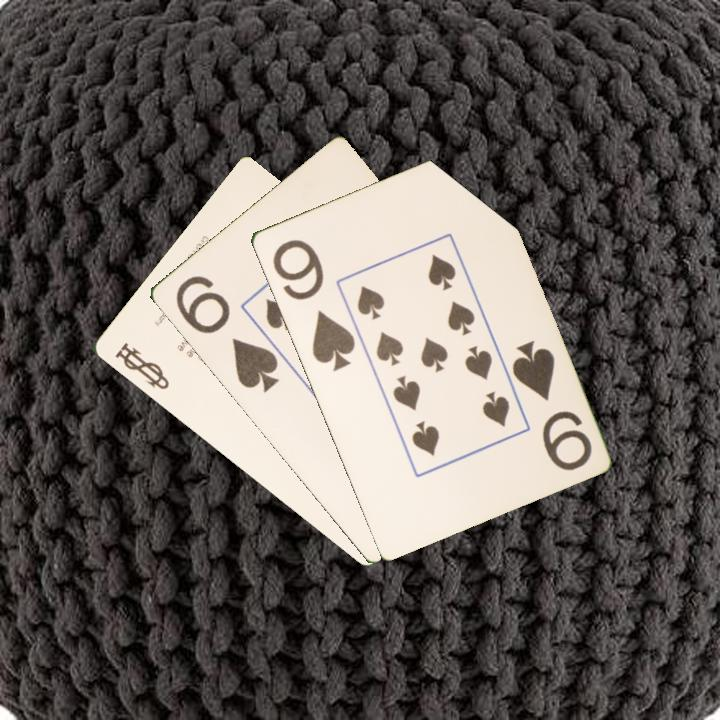6s: (171, 271, 282, 396)
9s: (268, 235, 358, 374), (507, 336, 595, 474)
JK: (110, 339, 172, 393)
